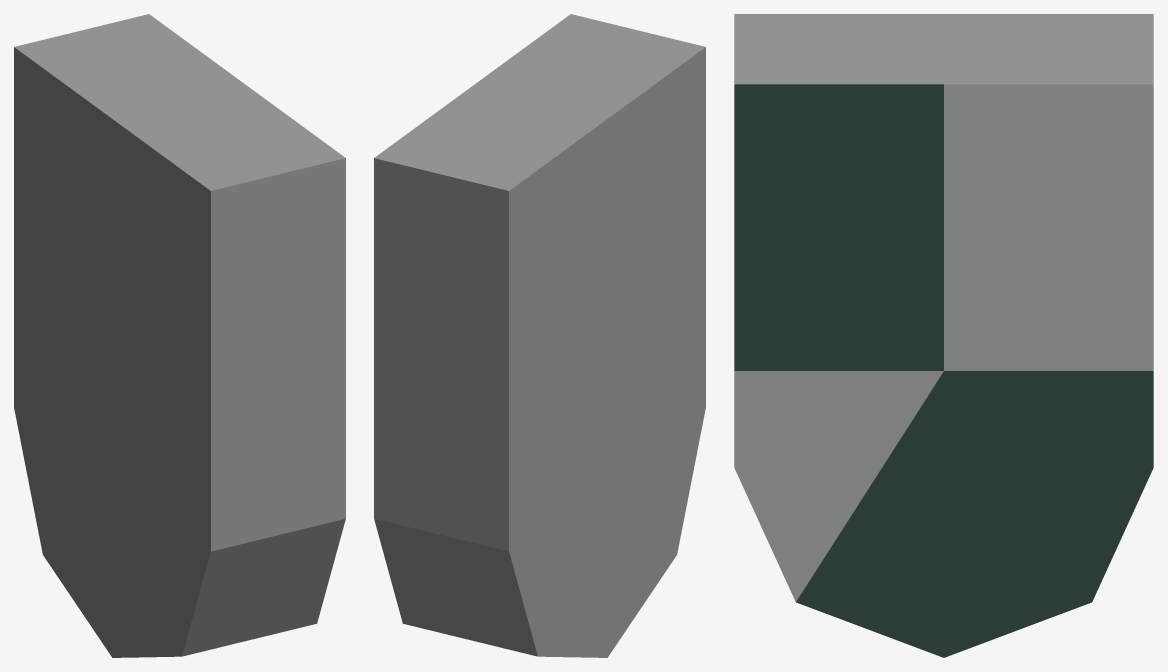
Rendered from Shield_Green_01.obj.
3 renders of one model, left to right at view 1: azimuth 30°, elevation 25°; view 2: azimuth 150°, elevation 25°; view 3: azimuth 270°, elevation 25°, orthographic. The views are drawn at different scales.
Visible parts, largest first — view 1: Mesh1_Shield_Green_Model; view 2: Mesh1_Shield_Green_Model; view 3: Mesh1_Shield_Green_Model.
Part boxes in pixels (<box>): Mesh1_Shield_Green_Model: <box>14,14,345,657</box>; Mesh1_Shield_Green_Model: <box>374,14,705,657</box>; Mesh1_Shield_Green_Model: <box>734,14,1153,657</box>.
Bounding box in the file's own units: 0.2 × 0.7625 × 0.5047.
